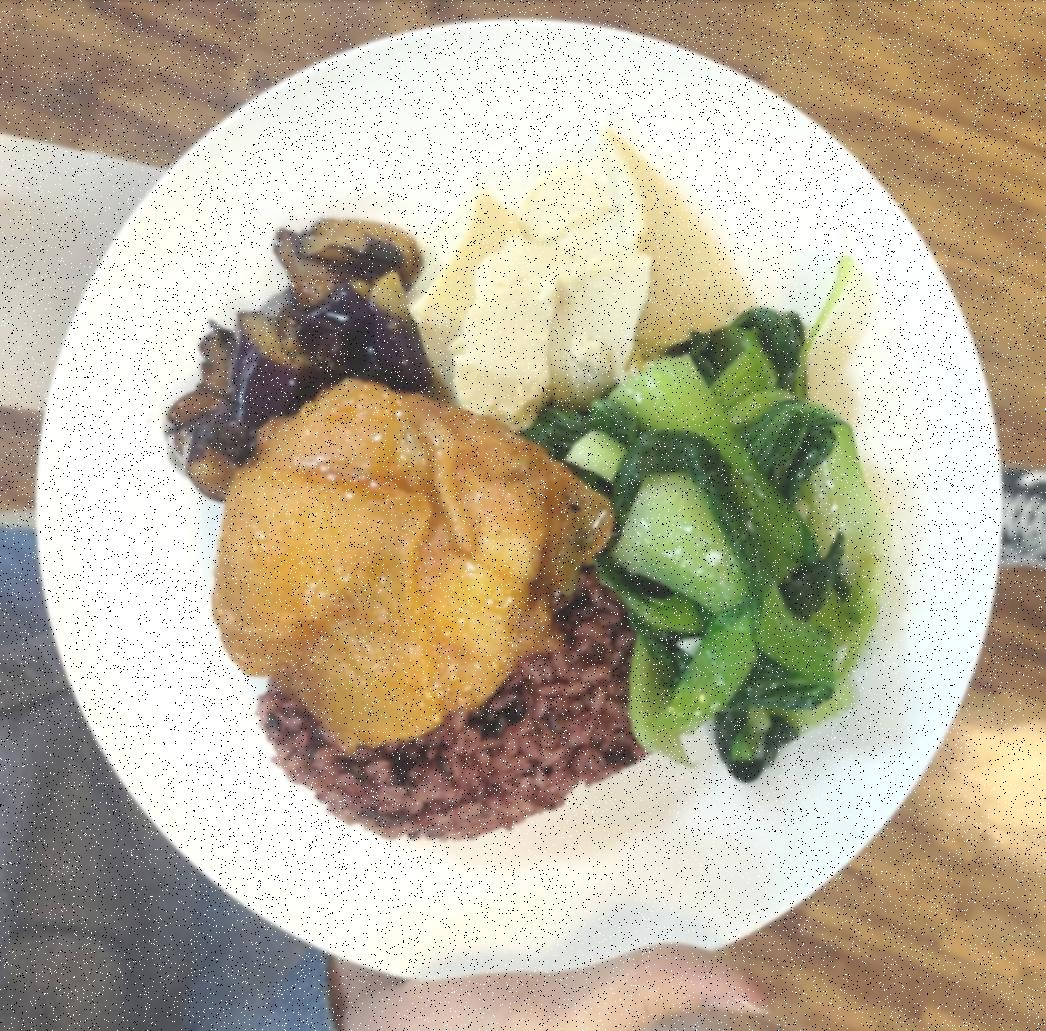big fried chicken leg: (20, 15, 1020, 994)
braised fish: (253, 556, 676, 838)
braised fish fillet: (578, 300, 890, 784), (165, 202, 426, 500), (412, 121, 658, 428)
braised pork: (210, 358, 602, 755)
